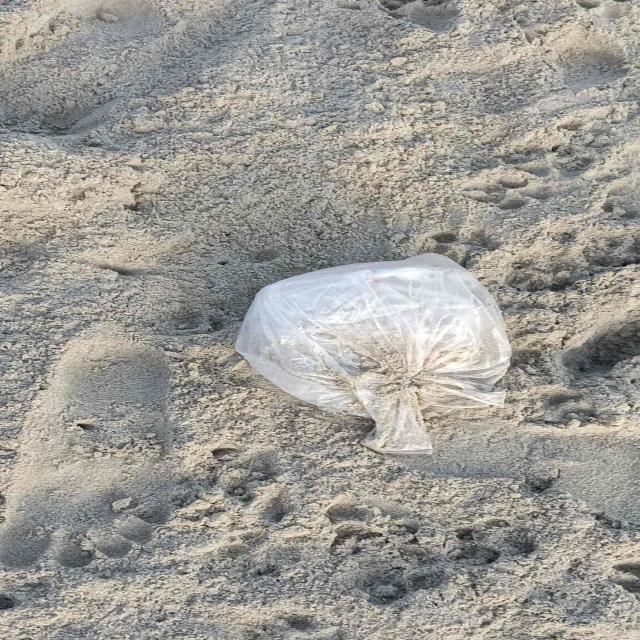nhua: (236, 265, 510, 455)
